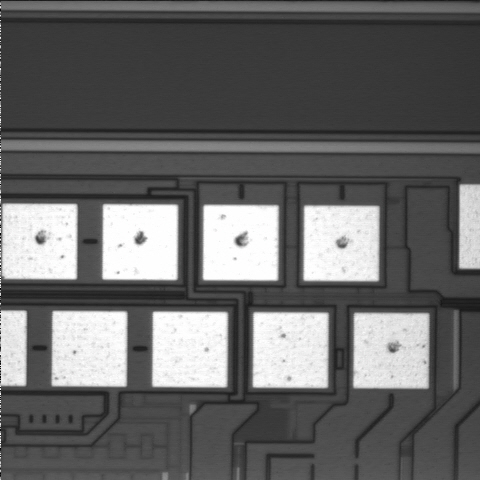pad: (102, 204, 178, 280), (203, 205, 279, 281), (303, 206, 379, 281), (52, 311, 127, 387), (152, 312, 228, 387), (253, 312, 328, 388), (353, 313, 429, 388), (2, 204, 77, 279)
